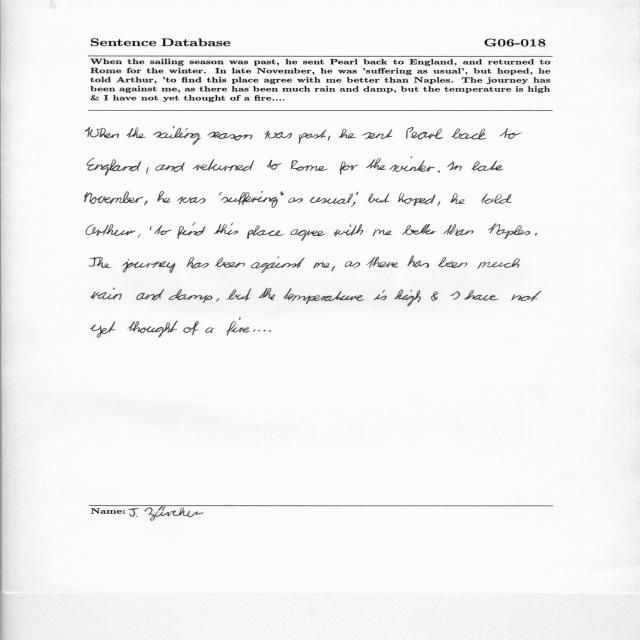word: (284, 288, 365, 304), (221, 191, 284, 208), (87, 158, 141, 176), (251, 256, 305, 273), (153, 126, 201, 145), (128, 321, 178, 338), (85, 191, 144, 204), (122, 259, 176, 273), (193, 159, 254, 171), (389, 157, 435, 172), (488, 224, 530, 240), (169, 289, 213, 303), (86, 224, 136, 236), (247, 225, 284, 239), (398, 193, 436, 206), (178, 222, 206, 239), (477, 258, 520, 269), (394, 290, 421, 307), (406, 127, 443, 139), (309, 194, 353, 204), (227, 318, 251, 336), (291, 229, 326, 241), (208, 132, 253, 141), (299, 129, 326, 144), (91, 322, 116, 338), (291, 160, 327, 171), (451, 129, 486, 140), (85, 127, 119, 138), (402, 224, 436, 235), (464, 290, 498, 301), (91, 288, 122, 300), (334, 224, 364, 236), (443, 224, 473, 236), (366, 257, 398, 268), (215, 257, 245, 268), (437, 257, 467, 268), (472, 161, 504, 171), (362, 129, 393, 139), (481, 194, 512, 204), (137, 289, 165, 300), (155, 162, 185, 172), (227, 289, 252, 301), (511, 291, 541, 301), (214, 223, 238, 235), (407, 256, 429, 268), (339, 162, 359, 175), (499, 128, 522, 139), (366, 158, 387, 170), (89, 257, 111, 268), (187, 257, 209, 268), (264, 131, 292, 139), (183, 321, 199, 335), (126, 127, 146, 138), (258, 288, 275, 300), (177, 197, 205, 204), (368, 194, 389, 203), (154, 225, 172, 235), (338, 129, 357, 138), (157, 191, 171, 203), (450, 193, 465, 204), (267, 160, 282, 170), (447, 162, 462, 171), (373, 229, 392, 236), (374, 290, 387, 300), (345, 261, 360, 268), (313, 263, 330, 269), (288, 197, 303, 203), (451, 292, 461, 300), (431, 291, 438, 301), (205, 327, 214, 333), (253, 329, 266, 332), (351, 202, 356, 207), (332, 266, 336, 272), (146, 167, 149, 174), (144, 201, 147, 206), (437, 202, 440, 207), (217, 298, 220, 302), (328, 136, 330, 141), (219, 192, 222, 195), (356, 191, 358, 195), (138, 234, 140, 238), (150, 227, 152, 231), (438, 171, 441, 173), (535, 233, 537, 236), (269, 330, 271, 332)
